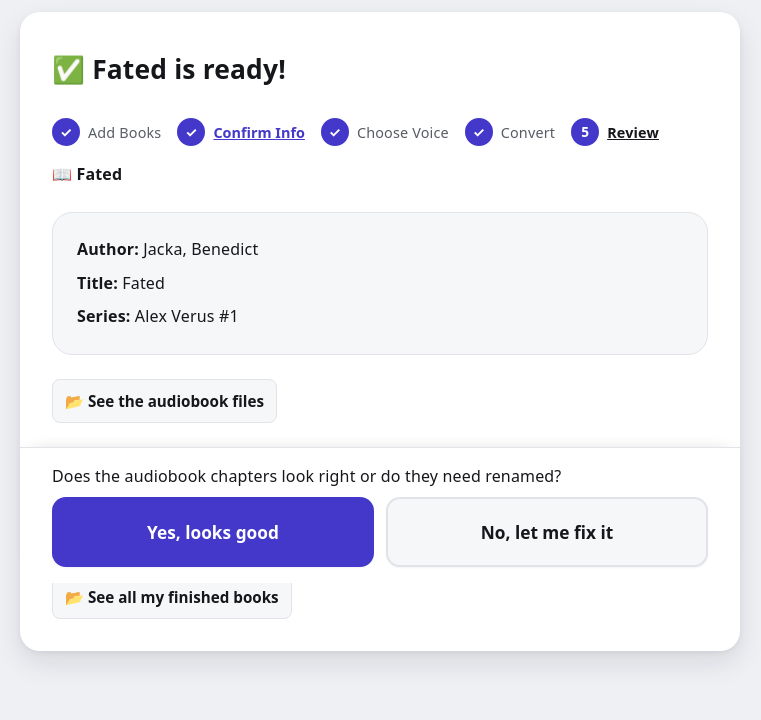
Test: ReviewScreen › shows a friendly message if the folder can't be opened
Click the button "📂 See the audiobook files".
click(164, 401)  # box 52,379 -> 277,423
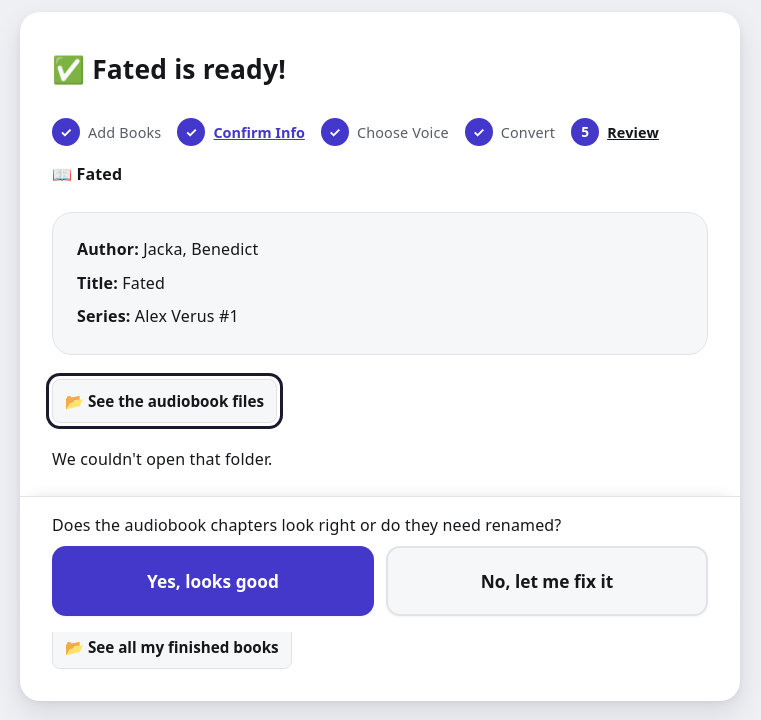
Expected: the message reads "We couldn't open that folder.", 52,448 -> 272,470
